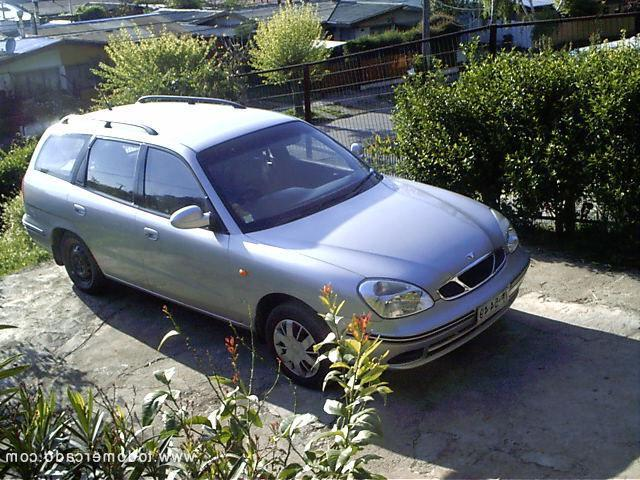Car: (13, 80, 546, 396)
